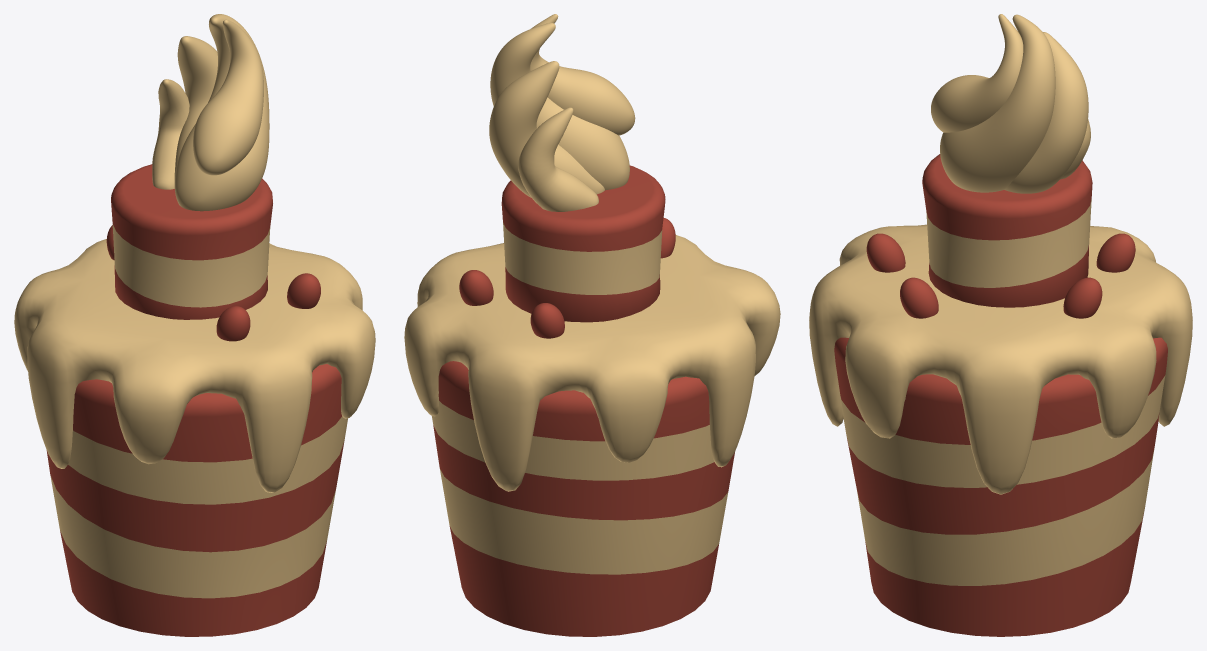
Rendered from Sweet_11.fbx.
3 renders of one model, left to right at view 1: azimuth 30°, elevation 25°; view 2: azimuth 150°, elevation 25°; view 3: azimuth 270°, elevation 25°, orthographic. The views are drawn at different scales.
Visible parts, largest first — view 1: Sweet_11; view 2: Sweet_11; view 3: Sweet_11.
Part boxes in pixels (left/top/right/bottom): Sweet_11: left=14, top=14, right=375, bottom=636; Sweet_11: left=404, top=14, right=780, bottom=636; Sweet_11: left=809, top=14, right=1192, bottom=636.
Bounding box in the file's own units: 72.27 × 122 × 72.7.
